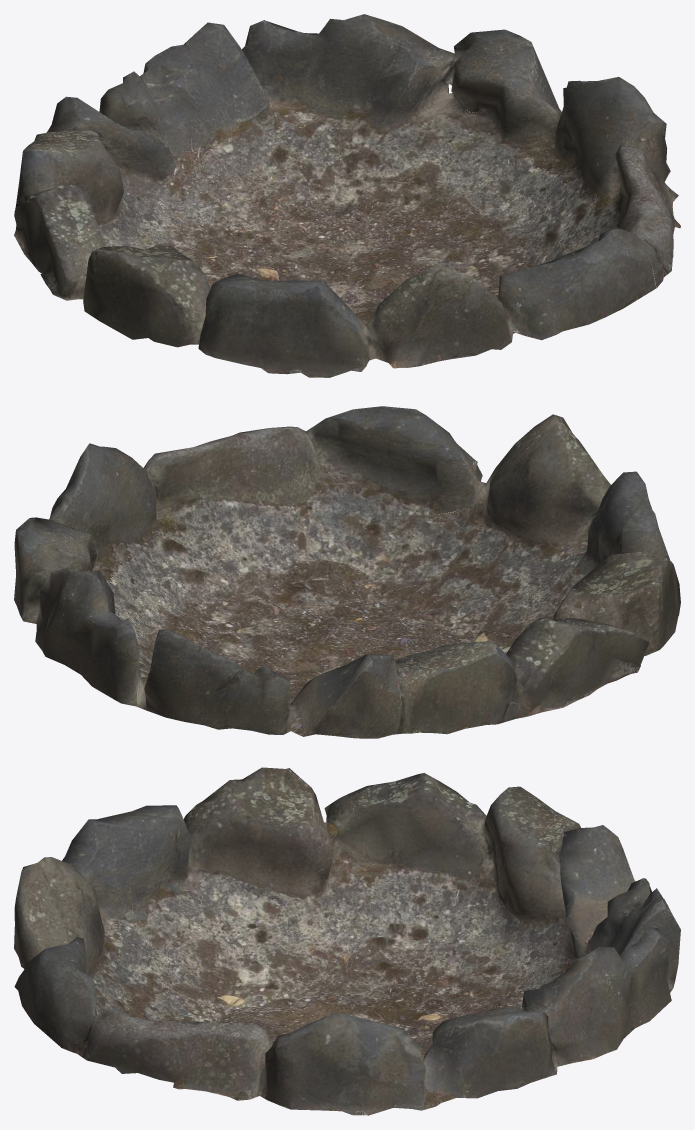
File: stone_fire_pit_lod0.glb
3 views of the same model, one above another, from view 1: azimuth 30°, elevation 25°; view 2: azimuth 150°, elevation 25°; view 3: azimuth 270°, elevation 25° (orthographic).
Visible parts, largest first — view 1: stone_fire_pit; view 2: stone_fire_pit; view 3: stone_fire_pit.
Boxes of the visible parts, x1,y1,x2,y2 form: stone_fire_pit: (14, 14, 680, 377); stone_fire_pit: (14, 406, 680, 738); stone_fire_pit: (14, 767, 680, 1115).
Size of the model in its own units: 1.45 by 0.3883 by 1.43.
Materials: 1 (1 with a texture image).
